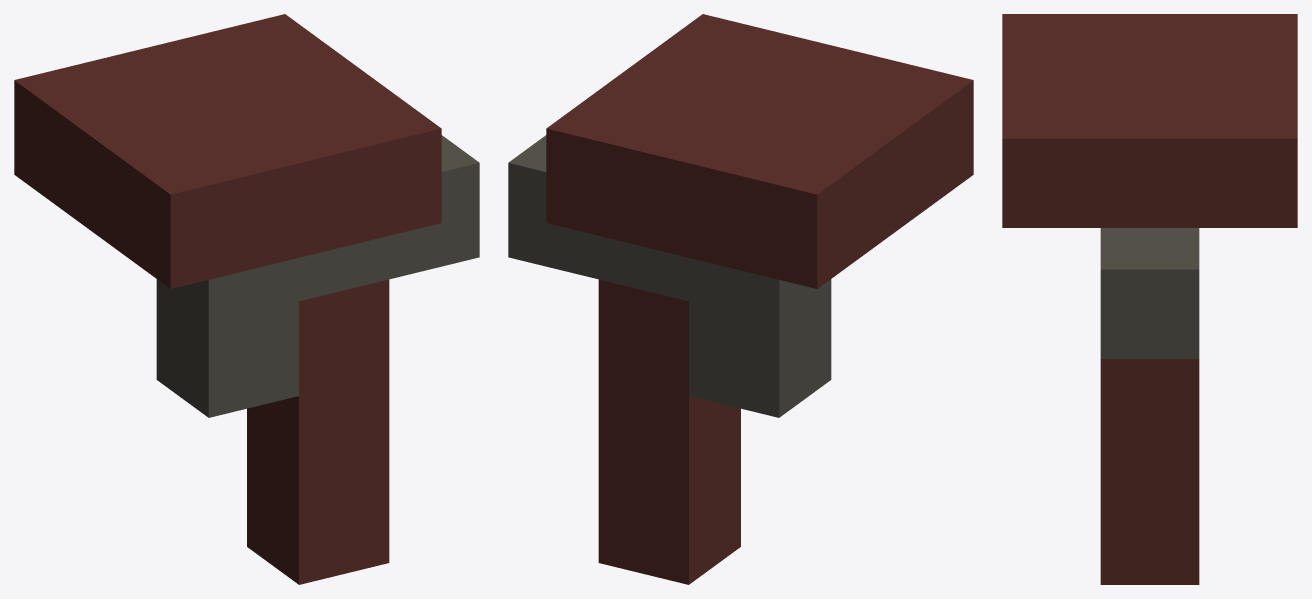
Rendered from wall_torch-0-handle.obj.
3 renders of one model, left to right at view 1: azimuth 30°, elevation 25°; view 2: azimuth 150°, elevation 25°; view 3: azimuth 270°, elevation 25°, orthographic. The views are drawn at different scales.
Parts seen in each view (by area): view 1: handle; view 2: handle; view 3: handle.
Part boxes in pixels (x1=…): handle: x1=14, y1=14, x2=479, y2=584; handle: x1=508, y1=14, x2=973, y2=584; handle: x1=1002, y1=14, x2=1297, y2=584.
Size of the model in its own units: 0.4 by 0.5 by 0.3.
Materials: 1 (1 with a texture image).
